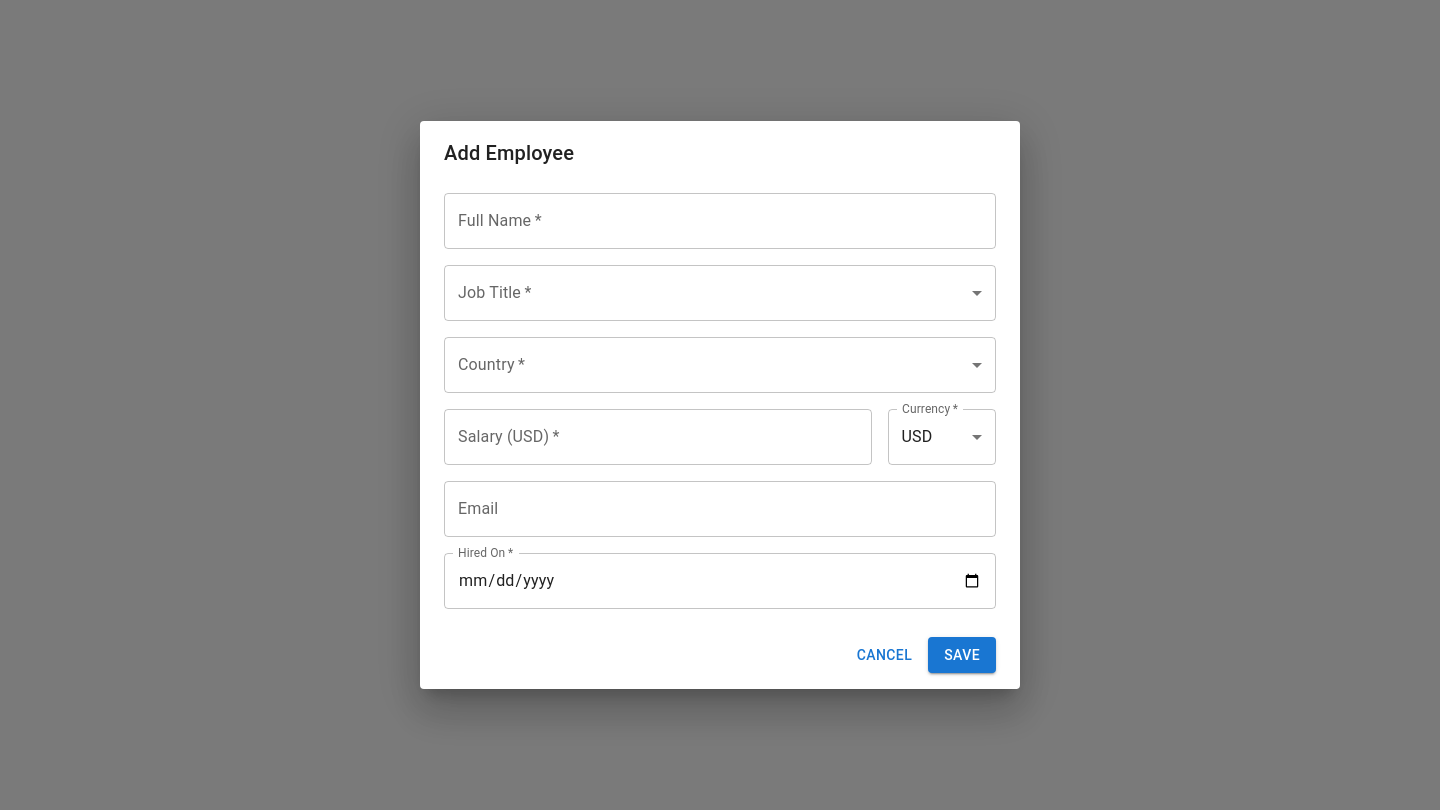
Scenario: EmployeeFormDialog › displays server validation errors
This screenshot has width=1440, height=810.
Click the button "Save". click: [962, 655]
box: [928,637,996,673]
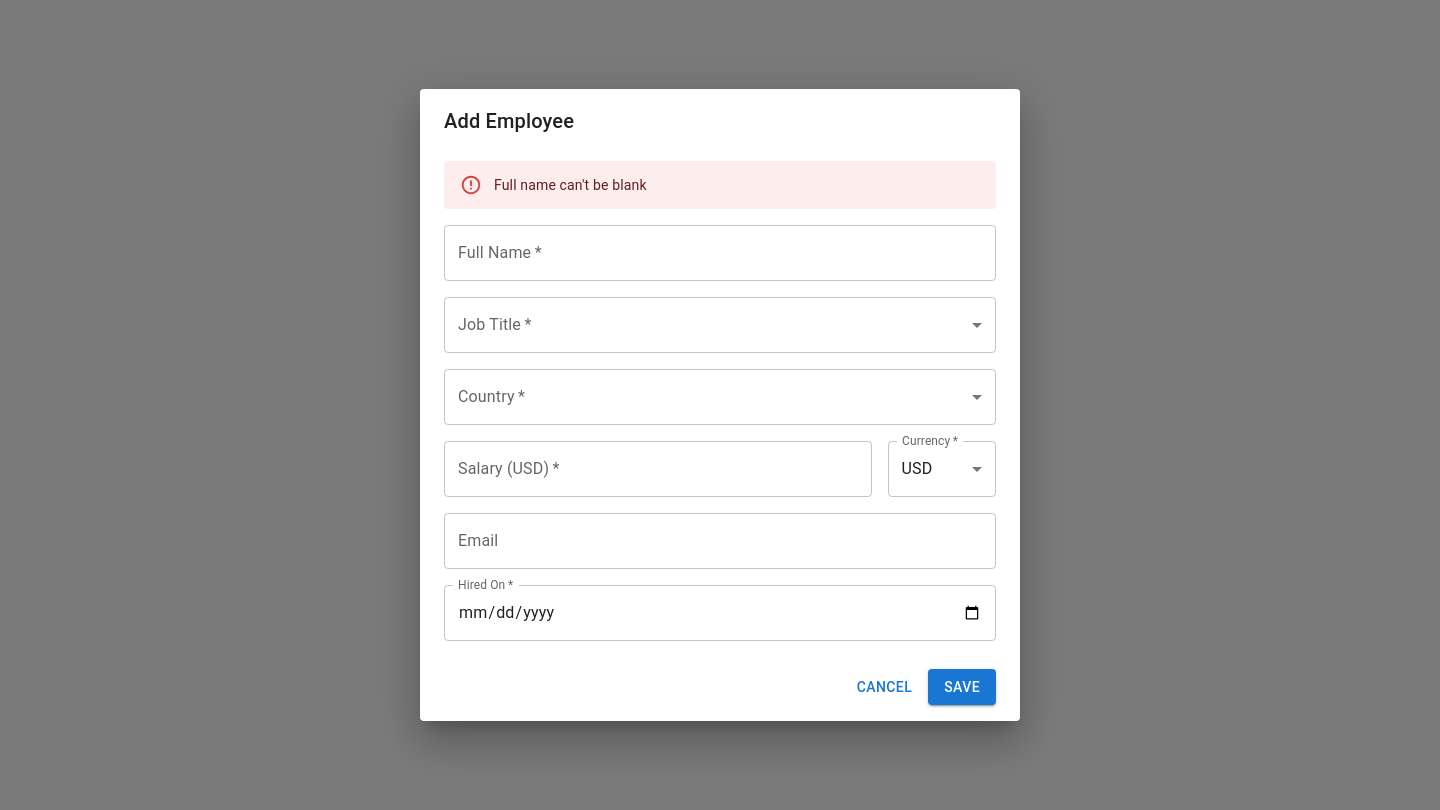
Result: the text "Full name can't be blank" is shown at [494,175,647,195]
